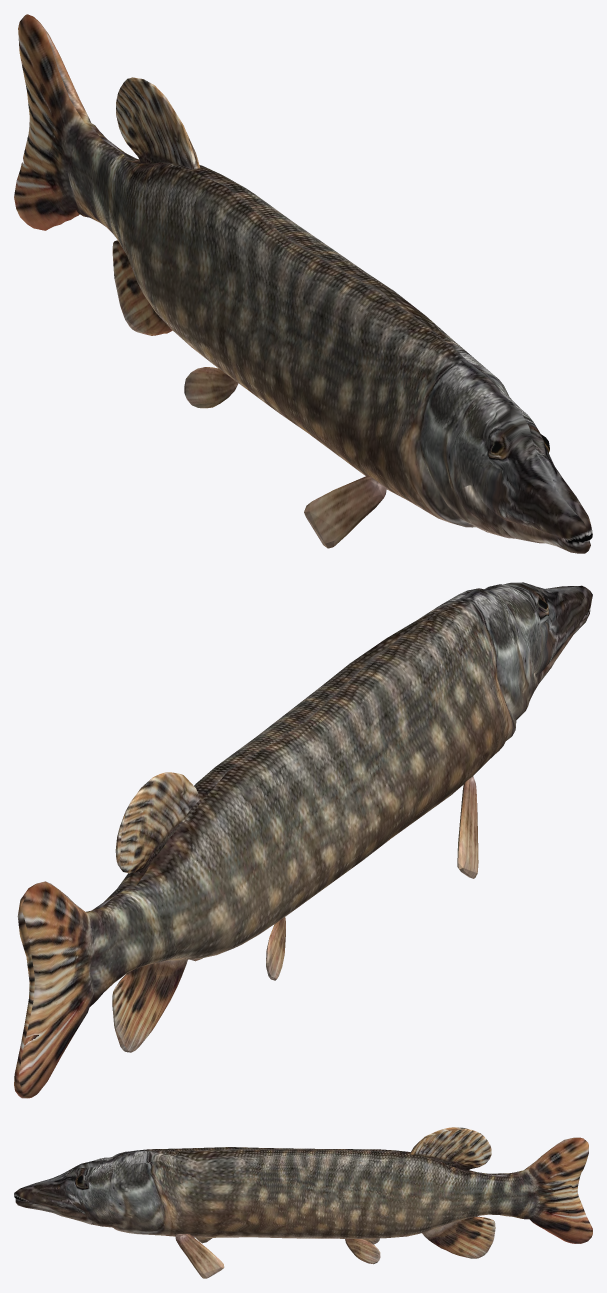
The model's file is EuropeanPike smooth.fbx.
The picture shows the model from 3 angles, top to bottom: view 1: azimuth 30°, elevation 25°; view 2: azimuth 150°, elevation 25°; view 3: azimuth 270°, elevation 25°; orthographic projection. The views are drawn at different scales.
Visible parts, largest first — view 1: Sphere, Cube.001, Sphere.002, Cube.002, Sphere.003; view 2: Sphere, Cube.001, Cube.002, Sphere.002, Sphere.003; view 3: Sphere, Cube.001, Cube.002, Sphere.001, Sphere.004.
Part boxes in pixels (left/top/right/bottom): Sphere: left=14, top=14, right=592, bottom=553; Cube.001: left=116, top=77, right=200, bottom=169; Sphere.002: left=304, top=475, right=386, bottom=548; Cube.002: left=112, top=240, right=172, bottom=335; Sphere.003: left=184, top=367, right=238, bottom=408; Sphere: left=14, top=582, right=592, bottom=1098; Cube.001: left=115, top=772, right=199, bottom=873; Cube.002: left=112, top=959, right=187, bottom=1052; Sphere.002: left=457, top=776, right=478, bottom=878; Sphere.003: left=266, top=917, right=285, bottom=980; Sphere: left=14, top=1137, right=592, bottom=1243; Cube.001: left=410, top=1127, right=491, bottom=1171; Cube.002: left=422, top=1216, right=495, bottom=1258; Sphere.001: left=175, top=1234, right=224, bottom=1278; Sphere.004: left=345, top=1239, right=380, bottom=1264.
Size of the model in its own units: 152 by 253 by 986.
7 materials, 7 textured.
